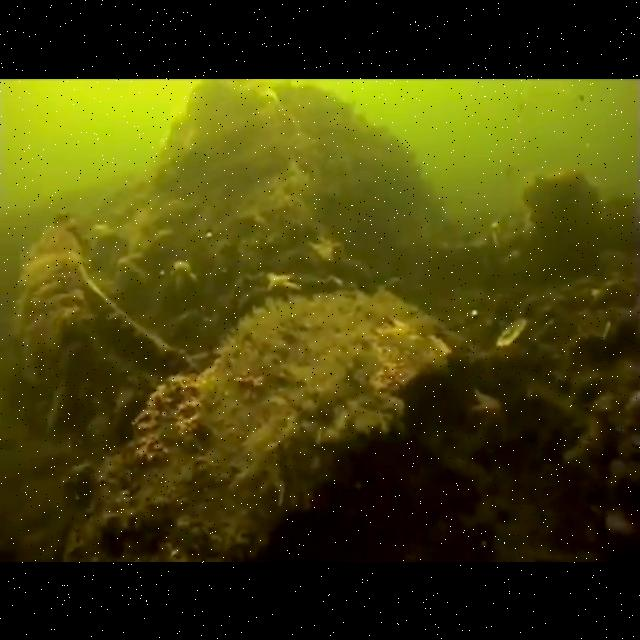Oyster-Closed: (94, 286, 450, 561), (289, 86, 451, 252), (156, 78, 316, 199)
